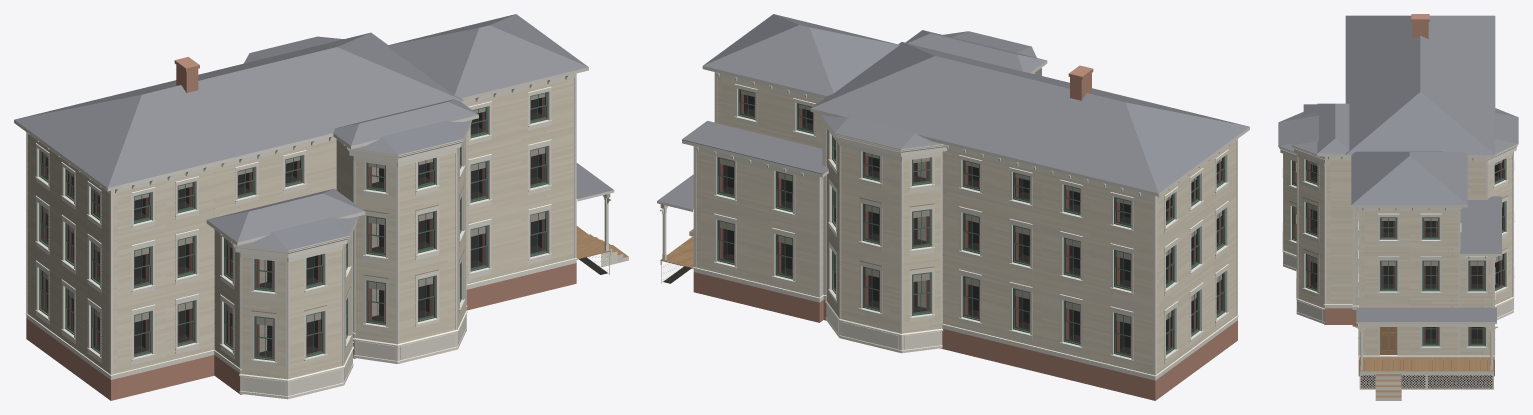
Rendered from house_2000_prairie__as_mapped_1904.glb.
3 renders of one model, left to right at view 1: azimuth 30°, elevation 25°; view 2: azimuth 150°, elevation 25°; view 3: azimuth 270°, elevation 25°, orthographic. The views are drawn at different scales.
Visible parts, largest first — view 1: house_2000_prairie__as_mapped_1904; view 2: house_2000_prairie__as_mapped_1904; view 3: house_2000_prairie__as_mapped_1904.
Boxes of the visible parts, left/top/right/bottom form: house_2000_prairie__as_mapped_1904: left=14, top=14, right=628, bottom=400; house_2000_prairie__as_mapped_1904: left=657, top=14, right=1249, bottom=400; house_2000_prairie__as_mapped_1904: left=1278, top=14, right=1518, bottom=400.
Bounding box in the file's own units: 27.12 × 13.36 × 13.05.
